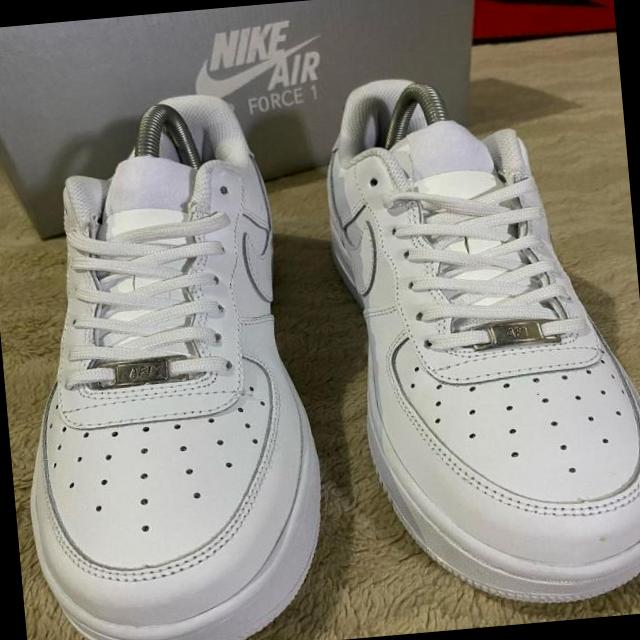nike_fake_airforce: (305, 59, 640, 620), (0, 87, 327, 640)
